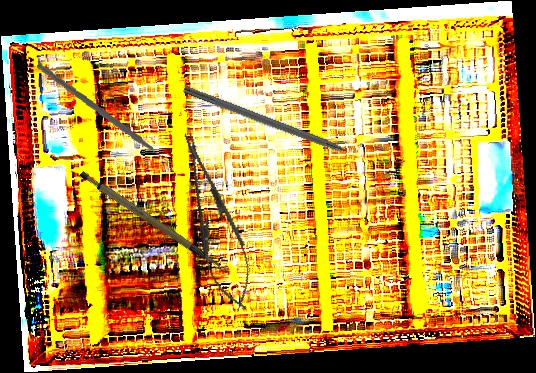Chopper: (28, 62, 178, 177)
Hook Surgical: (181, 84, 372, 167)
Needle Holder: (168, 125, 263, 317)
Scalpel Handle: (77, 153, 222, 289)
